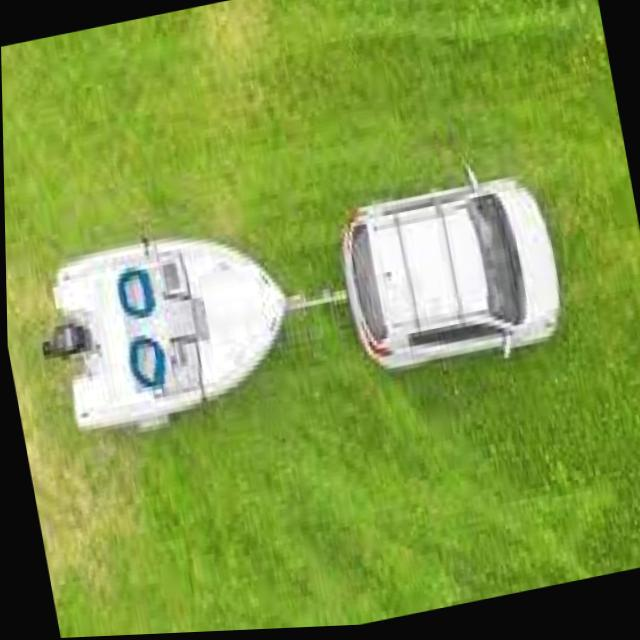ship2: (45, 241, 287, 435)
